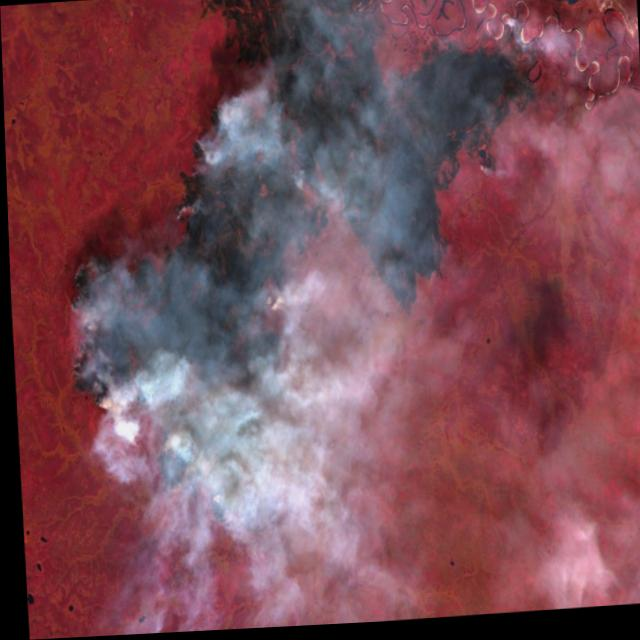fire: (49, 87, 299, 553)
